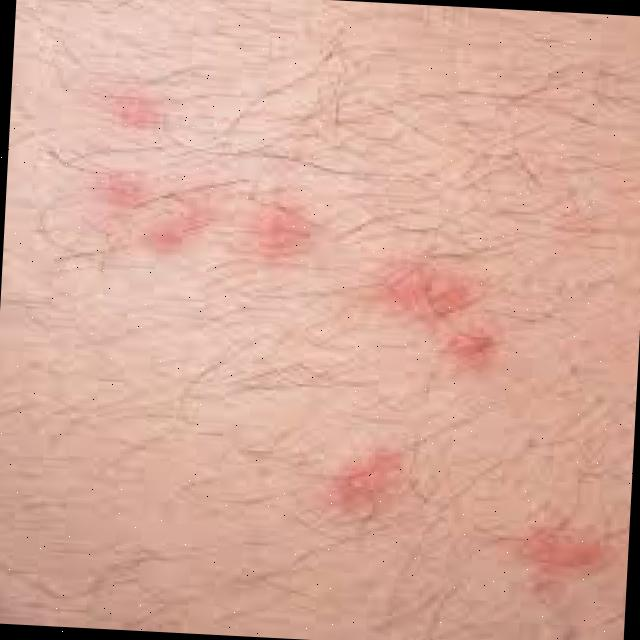kan emici bocekler: (362, 251, 528, 403), (63, 130, 208, 255), (310, 426, 417, 556), (493, 497, 628, 595), (228, 165, 329, 284)
